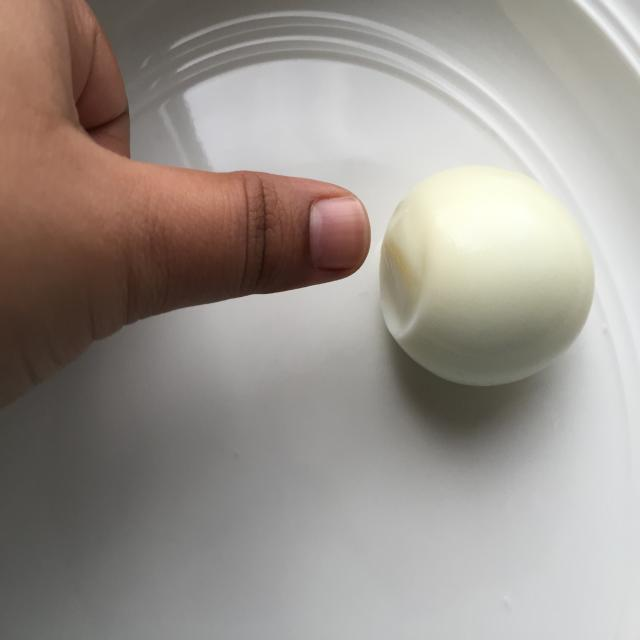Egg: (375, 158, 604, 398)
Finger: (204, 161, 376, 297)
